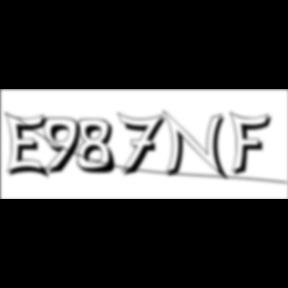7: (118, 111, 172, 179)
8: (78, 117, 122, 176)
9: (42, 117, 88, 177)
E: (4, 110, 54, 182)
F: (230, 110, 278, 178)
N: (162, 109, 232, 183)
